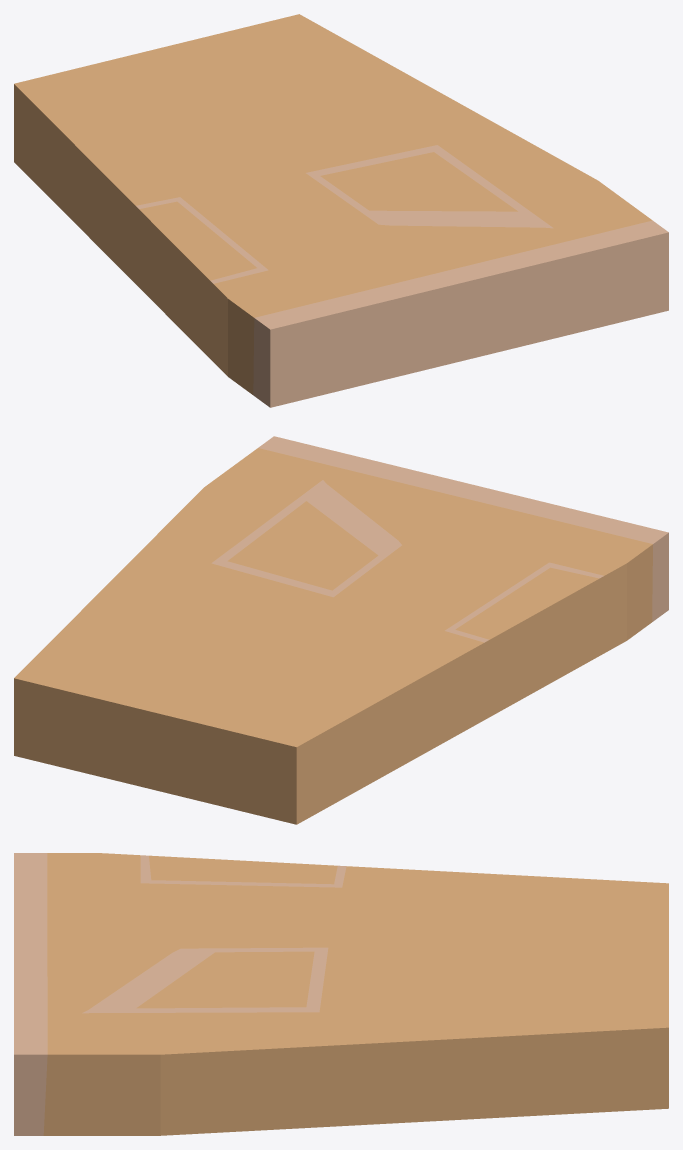
Rendered from stock1.fbx.
3 views of the same model, one above another, from view 1: azimuth 30°, elevation 25°; view 2: azimuth 150°, elevation 25°; view 3: azimuth 270°, elevation 25° (orthographic). The views are drawn at different scales.
Visible parts, largest first — view 1: Boole_2; view 2: Boole_2; view 3: Boole_2.
Part boxes in pixels (bbox=[...]): Boole_2: bbox=[14, 14, 668, 407]; Boole_2: bbox=[14, 436, 668, 824]; Boole_2: bbox=[14, 853, 668, 1135].
Size of the model in its own units: 33.19 by 6.23 by 45.57.
